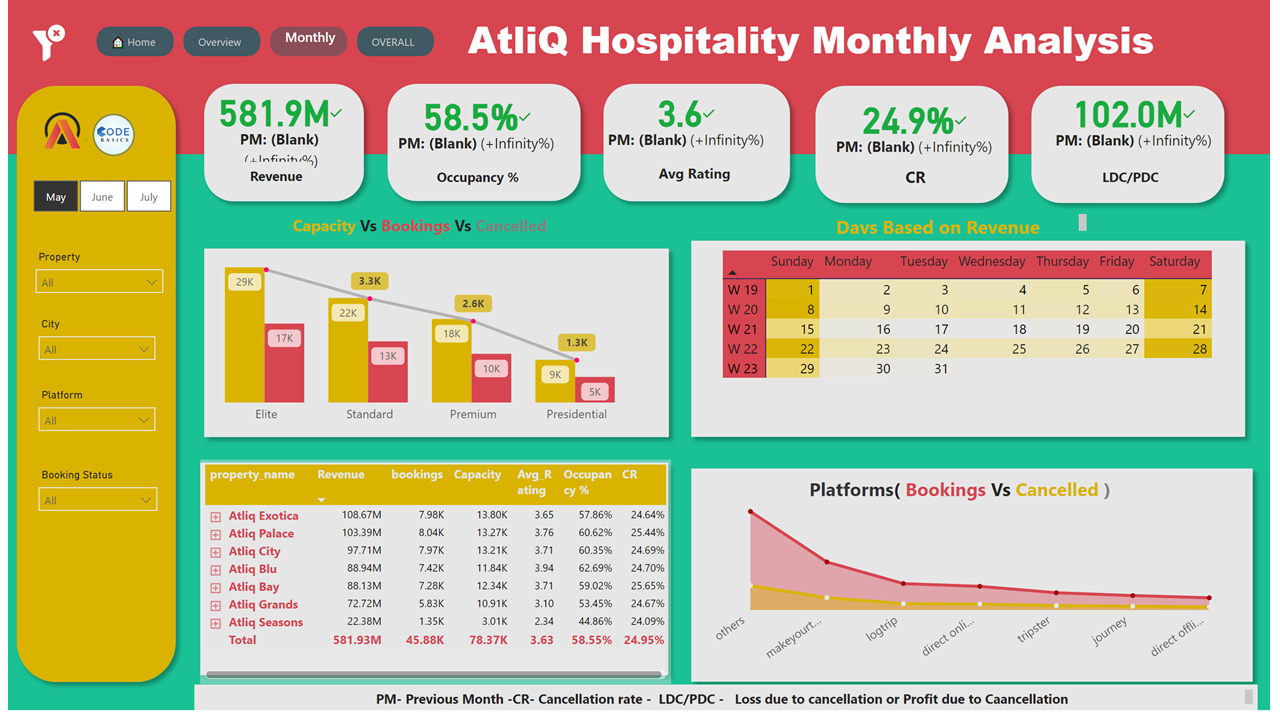

This screenshot's page, from the dashboard's own definition file:
{"tool":"powerbi","page":{"name":"Monthly","canvas":[1280,720],"ordinal":0},"visuals":[{"type":"shape","box":[0,0,1280,155.5],"z":0},{"type":"shape","box":[1029.1,77.7,213.8,136.9],"z":0,"group":"g8"},{"type":"shape","box":[809.6,78.1,213.8,136.9],"z":1000,"group":"g6"},{"type":"shape","box":[683.7,466.4,587.4,234.1],"z":1000},{"type":"shape","box":[595.4,76,213.8,136.9],"z":2000,"group":"g4"},{"type":"shape","box":[189.7,460.1,494.3,240.6],"z":2000},{"type":"shape","box":[376.3,76,213.8,136.9],"z":3000,"group":"g2"},{"type":"shape","box":[683.7,235,579.5,217.3],"z":3000},{"type":"shape","box":[173.1,80.4,203.2,135.2],"z":4000,"group":"g1"},{"type":"shape","box":[189.7,243.2,489.1,209],"z":4000},{"type":"image","title":"three dot menu","box":[1213.7,7.1,53.9,37.1],"z":5000},{"type":"kpi","title":"Revenue ","fields":{"Indicator":["Main measures.Revenue"],"TrendLine":["dim_date.date.Variation.Date Hierarchy.Month"],"Goal":["Main measures.Revenue LM"]},"box":[179.1,100.3,181.8,74.6],"z":6000,"group":"g1"},{"type":"lineClusteredColumnComboChart","title":"Capacity Vs Bookings Vs Cancelled","fields":{"Category":["dim_rooms.room_class"],"Y":["Main measures.Total Capacity","Main measures.Total_bookings"],"Y2":["Main measures.Total cancelled bookings"]},"box":[173.1,257.1,492.9,181.1],"z":6000},{"type":"kpi","title":"Occupancy %","fields":{"TrendLine":["dim_date.date.Variation.Date Hierarchy.Month"],"Indicator":["Main measures.Occupancy %"],"Goal":["Main measures.Occupancy % LM"]},"box":[388.3,92.7,173.9,70.2],"z":7000,"group":"g2"},{"type":"pivotTable","fields":{"Rows":["dim_date.week no"],"Columns":["Weekday.Weekday"],"Values":["Sum(dim_date.DAY)"]},"box":[719.9,249.1,515.9,181.1],"z":7000},{"type":"kpi","title":"Avg_Rating","fields":{"TrendLine":["dim_date.date.Variation.Date Hierarchy.Month"],"Indicator":["Main measures.Avg_Rating"],"Goal":["Main measures.Avg_Rating LM"]},"box":[603.8,90.1,174.7,69.4],"z":8000,"group":"g4"},{"type":"pivotTable","fields":{"Rows":["dim_hotels.property_name","dim_hotels.city"],"Values":["Main measures.Revenue","Main measures.Total_bookings","Main measures.Total Capacity","Main measures.Avg_Rating","Main measures.Occupancy %","Main measures.CR"]},"box":[189.7,479.4,489.1,208.1],"z":8000},{"type":"kpi","title":"CR","fields":{"TrendLine":["dim_date.date.Variation.Date Hierarchy.Month"],"Goal":["Main measures.CR LM"],"Indicator":["Main measures.CR"]},"box":[832.8,100.8,172.1,61.5],"z":9000,"group":"g6"},{"type":"areaChart","fields":{"Category":["fact_bookings.booking_platform"],"Y":["Main measures.Total_bookings","Main measures.Total cancelled bookings"]},"box":[704.9,501.8,549.5,178.4],"z":9000},{"type":"shape","box":[0,78.1,179.1,622.5],"z":10000},{"type":"group","id":"g1","title":"Group 1","box":[173.1,80.4,203.2,135.2],"z":10000,"group":"g10"},{"type":"kpi","title":"LDC","fields":{"TrendLine":["dim_date.date.Variation.Date Hierarchy.Month"],"Indicator":["Main measures.LDC/PDC"],"Goal":["Main measures.LDC/PDC  LM"]},"box":[1045.7,92.9,191.4,65],"z":10000,"group":"g8"},{"type":"textbox","box":[237.6,12.4,785.3,63.6],"z":11000},{"type":"group","id":"g2","title":"Group 2","box":[376.3,76,213.8,136.9],"z":11000,"group":"g9"},{"type":"group","id":"g3","title":"Group 6","box":[595.4,76,213.8,136.9],"z":12000},{"type":"group","id":"g4","title":"Group 3","box":[595.4,76,213.8,136.9],"z":12000,"group":"g3"},{"type":"group","id":"g5","title":"Group 7","box":[809.6,78.1,213.8,136.9],"z":13000},{"type":"group","id":"g6","title":"Group 4","box":[809.6,78.1,213.8,136.9],"z":13000,"group":"g5"},{"type":"group","id":"g7","title":"Group 8","box":[1029.1,77.7,213.8,136.9],"z":14000},{"type":"group","id":"g8","title":"Group 5","box":[1029.1,77.7,213.8,136.9],"z":14000,"group":"g7"},{"type":"textbox","box":[422.6,164.7,108.9,29.9],"z":14003,"group":"g9"},{"type":"textbox","box":[225.2,167,81.3,32.7],"z":14004,"group":"g10"},{"type":"textbox","box":[647,160.8,106,35.3],"z":14005,"group":"g3"},{"type":"textbox","box":[867,162.9,106.9,35.3],"z":14006,"group":"g5"},{"type":"textbox","box":[1084.8,164.3,106.9,35.3],"z":14007,"group":"g7"},{"type":"group","id":"g9","title":"Group 9","box":[376.3,76,213.8,136.9],"z":15000},{"type":"group","id":"g10","title":"Group 10","box":[173.1,80.4,203.2,135.2],"z":16000},{"type":"textbox","box":[269.6,216.9,305.6,36],"z":17000},{"type":"textbox","box":[788.5,216,305.6,36.9],"z":18000},{"type":"textbox","box":[778.8,469.8,351.2,46.5],"z":19000},{"type":"image","title":"codebasics","box":[79,108.9,56.2,55.3],"z":20000},{"type":"image","title":"atliq","box":[21.1,106.2,64.1,52.7],"z":21000},{"type":"slicer","fields":{"Values":["dim_date.mmm yy.Variation.Date Hierarchy.Month"]},"box":[0,176.5,189.7,45.7],"z":22000},{"type":"slicer","fields":{"Values":["dim_hotels.property_name"]},"box":[17.6,249.4,149.3,51.8],"z":23000},{"type":"slicer","fields":{"Values":["dim_hotels.city"]},"box":[20.9,316.5,138.4,53.7],"z":24000},{"type":"slicer","fields":{"Values":["fact_bookings.booking_platform"]},"box":[20.9,389.2,138.4,51.8],"z":25000},{"type":"slicer","fields":{"Values":["fact_bookings.booking_status"]},"box":[20.9,469.8,140.3,51.8],"z":26000},{"type":"textbox","box":[189.3,693.7,1078.4,26.4],"z":27000},{"type":"image","box":[17.9,14.9,46.8,56.7],"z":28000},{"type":"slicer","fields":{"Values":["dim_date.week no"]},"box":[20.9,554.4,138.4,51.8],"z":29000}]}

Visuals, with their boxes in screenshot pixels (x1, y1, x2, y2), scaled from the page's 1280x720 canvas onto the 1280x720 screenshot:
shape: box=[0, 0, 1279, 156]
shape: box=[1029, 78, 1243, 215]
shape: box=[810, 78, 1023, 215]
shape: box=[684, 466, 1271, 700]
shape: box=[595, 76, 809, 213]
shape: box=[190, 460, 684, 701]
shape: box=[376, 76, 590, 213]
shape: box=[684, 235, 1263, 452]
shape: box=[173, 80, 376, 216]
shape: box=[190, 243, 679, 452]
"three dot menu" image: box=[1214, 7, 1268, 44]
"Revenue " kpi: box=[179, 100, 361, 175]
"Capacity Vs Bookings Vs Cancelled" lineClusteredColumnComboChart: box=[173, 257, 666, 438]
"Occupancy %" kpi: box=[388, 93, 562, 163]
pivotTable - dim_date.week no x Weekday.Weekday: box=[720, 249, 1236, 430]
"Avg_Rating" kpi: box=[604, 90, 778, 160]
pivotTable - dim_hotels.property_name x dim_hotels.city: box=[190, 479, 679, 688]
"CR" kpi: box=[833, 101, 1005, 162]
areaChart - fact_bookings.booking_platform x Main measures.Total_bookings: box=[705, 502, 1254, 680]
shape: box=[0, 78, 179, 701]
"Group 1" group: box=[173, 80, 376, 216]
"LDC" kpi: box=[1046, 93, 1237, 158]
textbox: box=[238, 12, 1023, 76]
"Group 2" group: box=[376, 76, 590, 213]
"Group 6" group: box=[595, 76, 809, 213]
"Group 3" group: box=[595, 76, 809, 213]
"Group 7" group: box=[810, 78, 1023, 215]
"Group 4" group: box=[810, 78, 1023, 215]
"Group 8" group: box=[1029, 78, 1243, 215]
"Group 5" group: box=[1029, 78, 1243, 215]
textbox: box=[423, 165, 532, 195]
textbox: box=[225, 167, 306, 200]
textbox: box=[647, 161, 753, 196]
textbox: box=[867, 163, 974, 198]
textbox: box=[1085, 164, 1192, 200]
"Group 9" group: box=[376, 76, 590, 213]
"Group 10" group: box=[173, 80, 376, 216]
textbox: box=[270, 217, 575, 253]
textbox: box=[788, 216, 1094, 253]
textbox: box=[779, 470, 1130, 516]
"codebasics" image: box=[79, 109, 135, 164]
"atliq" image: box=[21, 106, 85, 159]
slicer - dim_date.mmm yy.Variation.Date Hierarchy.Month: box=[0, 176, 190, 222]
slicer - dim_hotels.property_name: box=[18, 249, 167, 301]
slicer - dim_hotels.city: box=[21, 316, 159, 370]
slicer - fact_bookings.booking_platform: box=[21, 389, 159, 441]
slicer - fact_bookings.booking_status: box=[21, 470, 161, 522]
textbox: box=[189, 694, 1268, 719]
image: box=[18, 15, 65, 72]
slicer - dim_date.week no: box=[21, 554, 159, 606]
